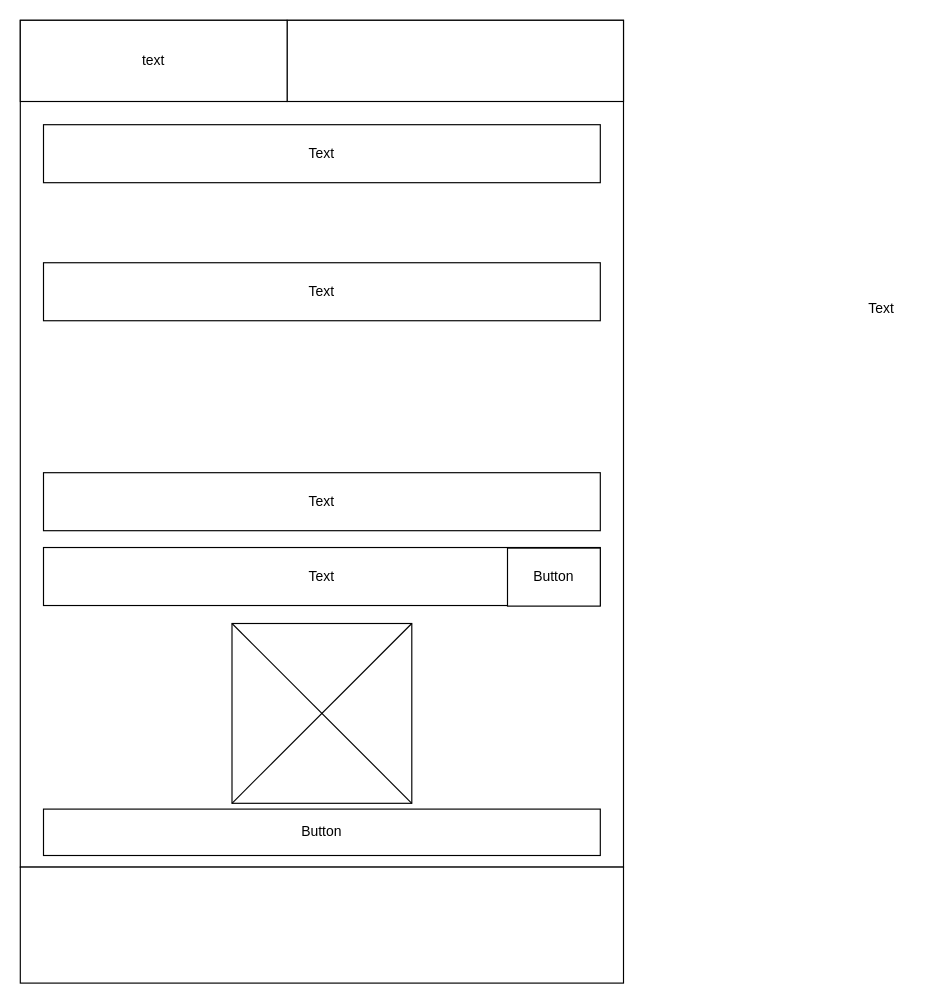
Image size: 925x1003. Some labels were removed from this diagram. The shapes that lost their labels are listed below. From the top down, each one's box as (x1, y1, x2, y2) in pixels, then its label:
(286, 19, 624, 102): Navigation
(19, 866, 624, 983): Footer
